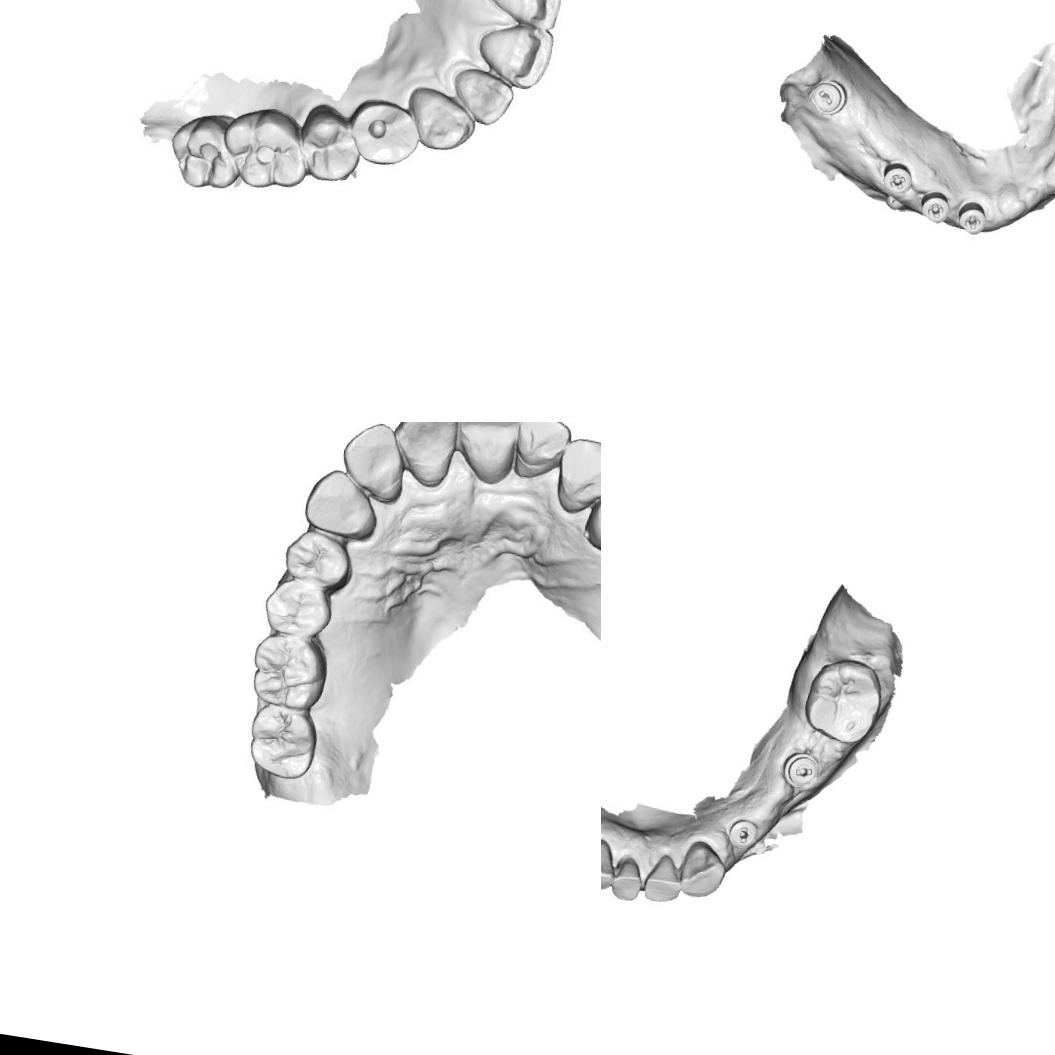canine: (297, 464, 384, 544), (406, 82, 481, 156), (551, 436, 601, 516)
implant_minus: (805, 74, 852, 122), (777, 747, 822, 792), (726, 815, 761, 852)
implant_plus: (916, 187, 956, 227), (954, 198, 991, 240), (879, 160, 917, 198)
incisor: (340, 422, 414, 503), (388, 422, 465, 490), (479, 20, 553, 88), (452, 422, 528, 486), (511, 422, 571, 483), (450, 65, 512, 124), (676, 837, 730, 902), (641, 850, 688, 906), (608, 854, 646, 904), (489, 0, 560, 26), (601, 832, 623, 893)
molar: (799, 652, 889, 748), (221, 106, 312, 193), (247, 632, 330, 719), (167, 110, 247, 193), (242, 701, 322, 775)
premolar: (349, 97, 423, 167), (280, 526, 360, 590), (259, 574, 334, 642), (300, 106, 360, 182)
